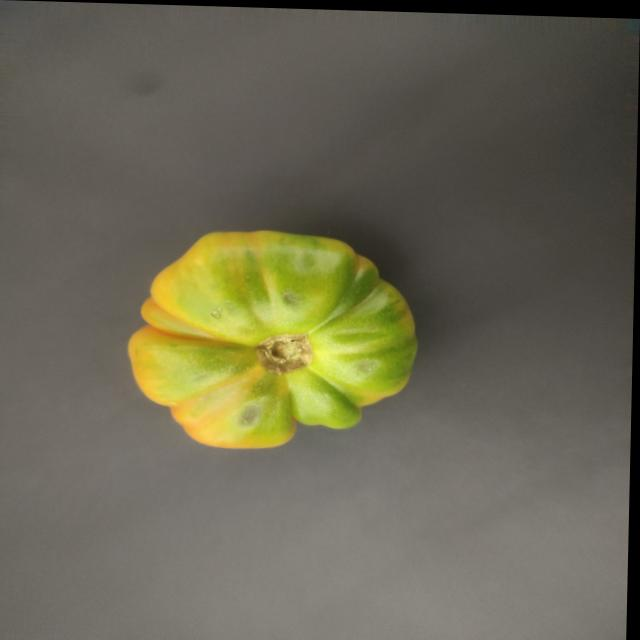yesil: (97, 214, 464, 463)
